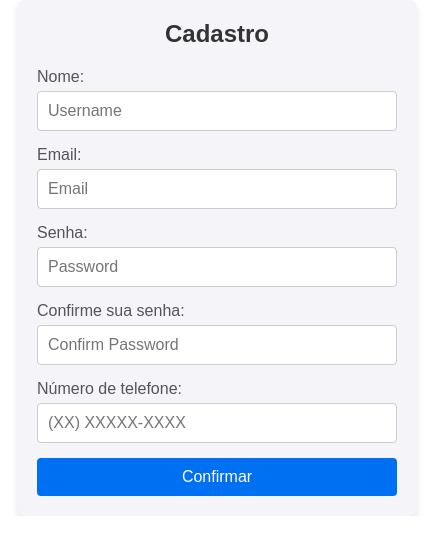
CadastroForm › deve formatar o número de telefone corretamente
The image size is (435, 533).
In the field labelled "Número de telefone:": (217,423) [37,403,397,443], type "11987654321"
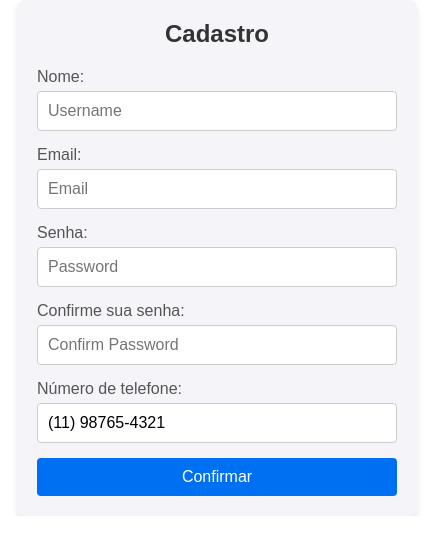
Expected: the field labelled "Número de telefone:" holds "(11) 98765-4321", [37,403,397,443]
